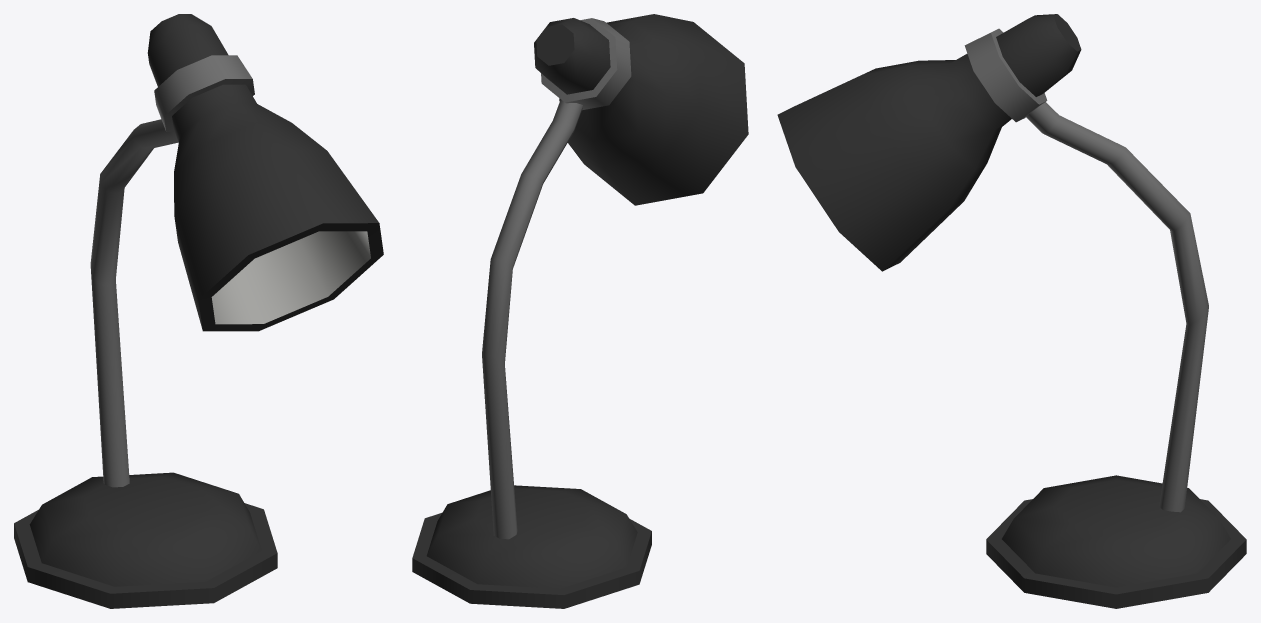
The model's file is Light_Desk.glb.
3 views of the same model, side by side, from view 1: azimuth 30°, elevation 25°; view 2: azimuth 150°, elevation 25°; view 3: azimuth 270°, elevation 25° (orthographic). The views are drawn at different scales.
Parts seen in each view (by area): view 1: Light_Desk; view 2: Light_Desk; view 3: Light_Desk.
Boxes of the visible parts, bbox=[...] form: Light_Desk: bbox=[14, 14, 383, 608]; Light_Desk: bbox=[412, 14, 748, 608]; Light_Desk: bbox=[777, 14, 1246, 608].
Bounding box in the file's own units: 0.123 × 0.2803 × 0.2216.
3 materials, 3 textured.
